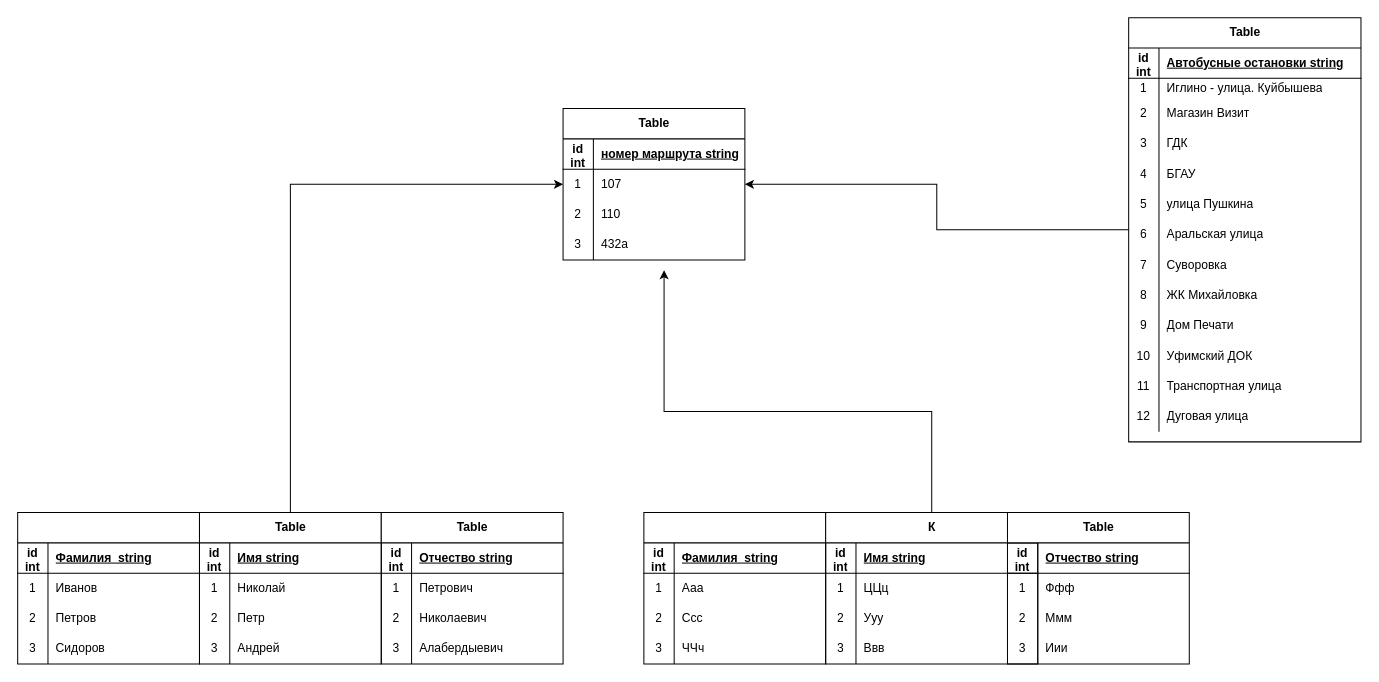
The diagram is 1379 pixels wide and 682 high, and some of its shapes have lost their labels. The shapes that lost their labels are listed below. From the top down, each one's box as (x1, y1, x2, y2) in pixels, then its label:
(17, 512, 199, 664): Водители
(643, 512, 826, 664): Кондукторы
